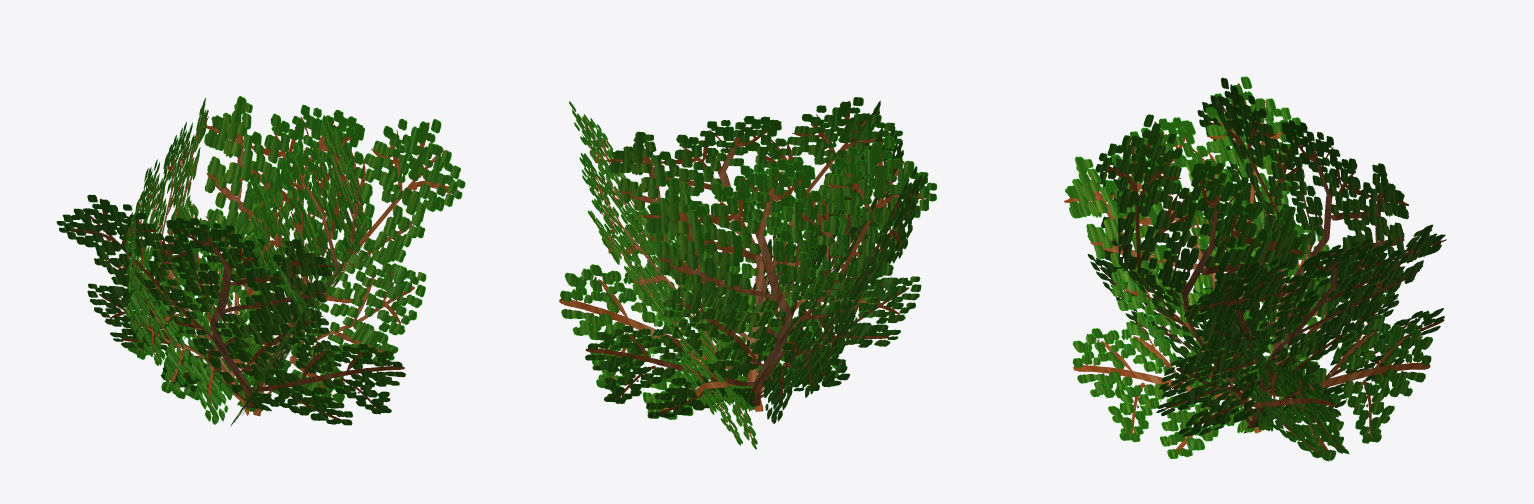
Rendered from burke_LGbush.fbx.
3 renders of one model, left to right at view 1: azimuth 30°, elevation 25°; view 2: azimuth 150°, elevation 25°; view 3: azimuth 270°, elevation 25°, orthographic. The views are drawn at different scales.
Parts seen in each view (by area): view 1: bush_mb6; view 2: bush_mb6; view 3: bush_mb6.
Boxes of the visible parts, x1=… form: bush_mb6: x1=56, y1=96, x2=465, y2=426; bush_mb6: x1=559, y1=97, x2=936, y2=449; bush_mb6: x1=1064, y1=76, x2=1446, y2=461.
Size of the model in its own units: 2.81 by 1.9 by 2.73.
